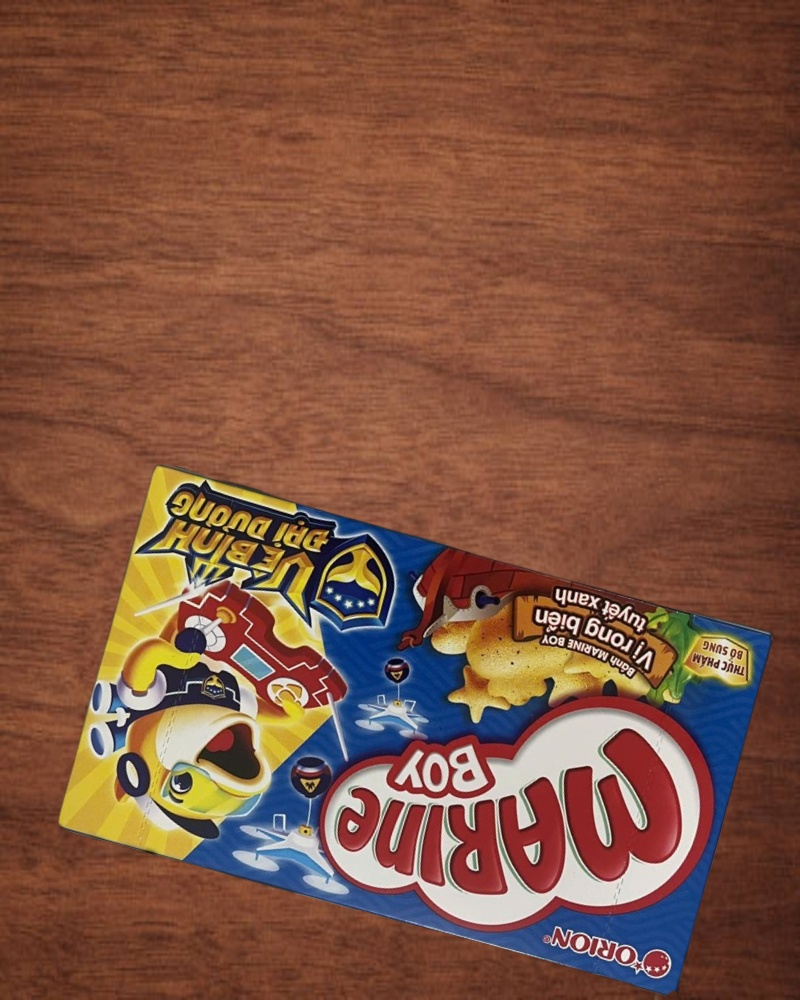Marine: (53, 463, 776, 999)
